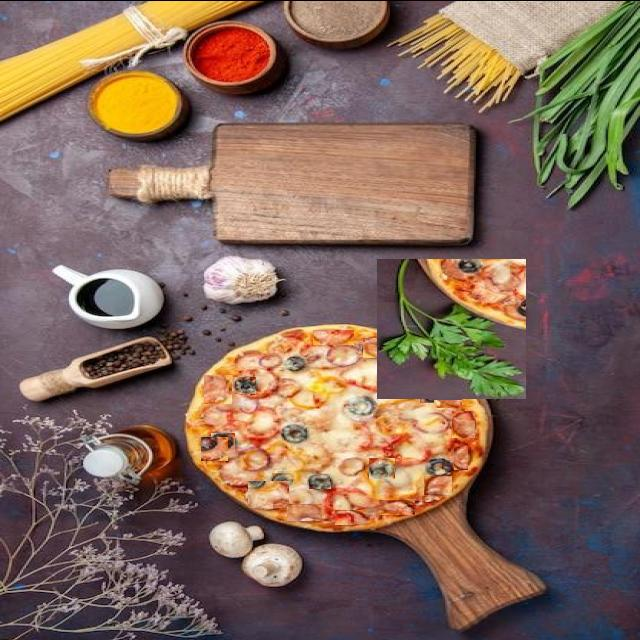basil: (377, 258, 526, 398)
olive: (369, 457, 395, 478), (426, 457, 453, 477), (280, 424, 308, 442), (211, 432, 235, 452), (420, 384, 446, 402), (358, 341, 387, 356), (234, 376, 256, 393), (309, 473, 331, 488), (272, 471, 294, 486), (284, 356, 304, 372)
pepperoni: (248, 478, 289, 506), (223, 454, 257, 486), (398, 354, 437, 379), (434, 374, 462, 406), (204, 374, 232, 403), (363, 337, 401, 357), (202, 436, 230, 460), (452, 408, 475, 436), (313, 329, 354, 344), (288, 503, 324, 520), (379, 499, 415, 514), (424, 475, 452, 494), (336, 509, 368, 524), (454, 442, 468, 469)
pizza: (182, 323, 488, 532)
